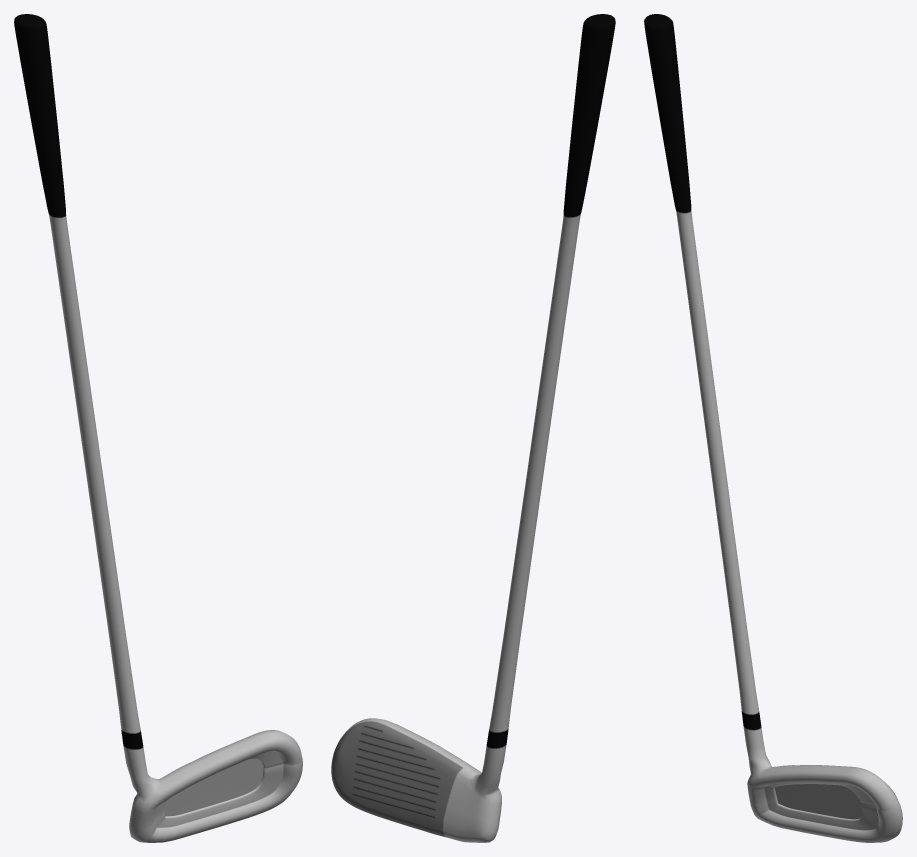
Rendered from Golf_Iron.glb.
3 views of the same model, side by side, from view 1: azimuth 30°, elevation 25°; view 2: azimuth 150°, elevation 25°; view 3: azimuth 330°, elevation 25° (orthographic). The views are drawn at different scales.
Visible parts, largest first — view 1: Circle.001; view 2: Circle.001; view 3: Circle.001.
Part boxes in pixels (x1,y1,x2,y2): Circle.001: (14,14,302,842); Circle.001: (331,14,615,842); Circle.001: (644,14,902,842).
Size of the model in its own units: 0.3393 by 0.98 by 0.0481.
Materials: 1 (1 with a texture image).
